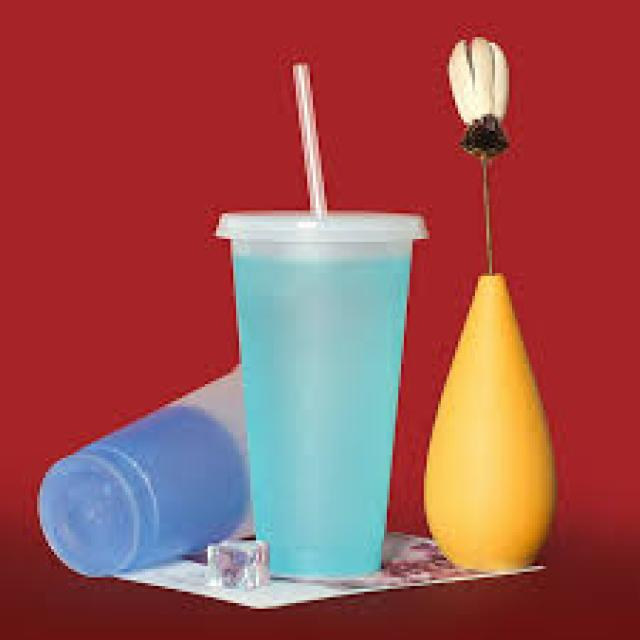cup: (194, 184, 438, 602), (35, 311, 301, 586)
